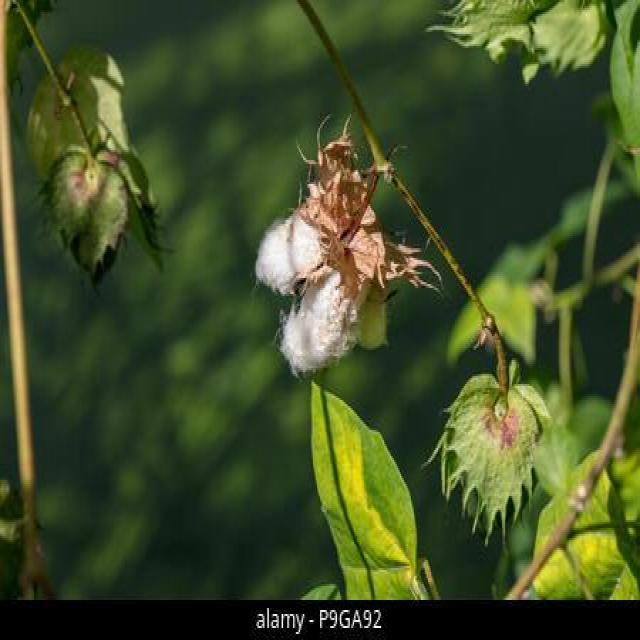Late_blight: (248, 110, 432, 372)
